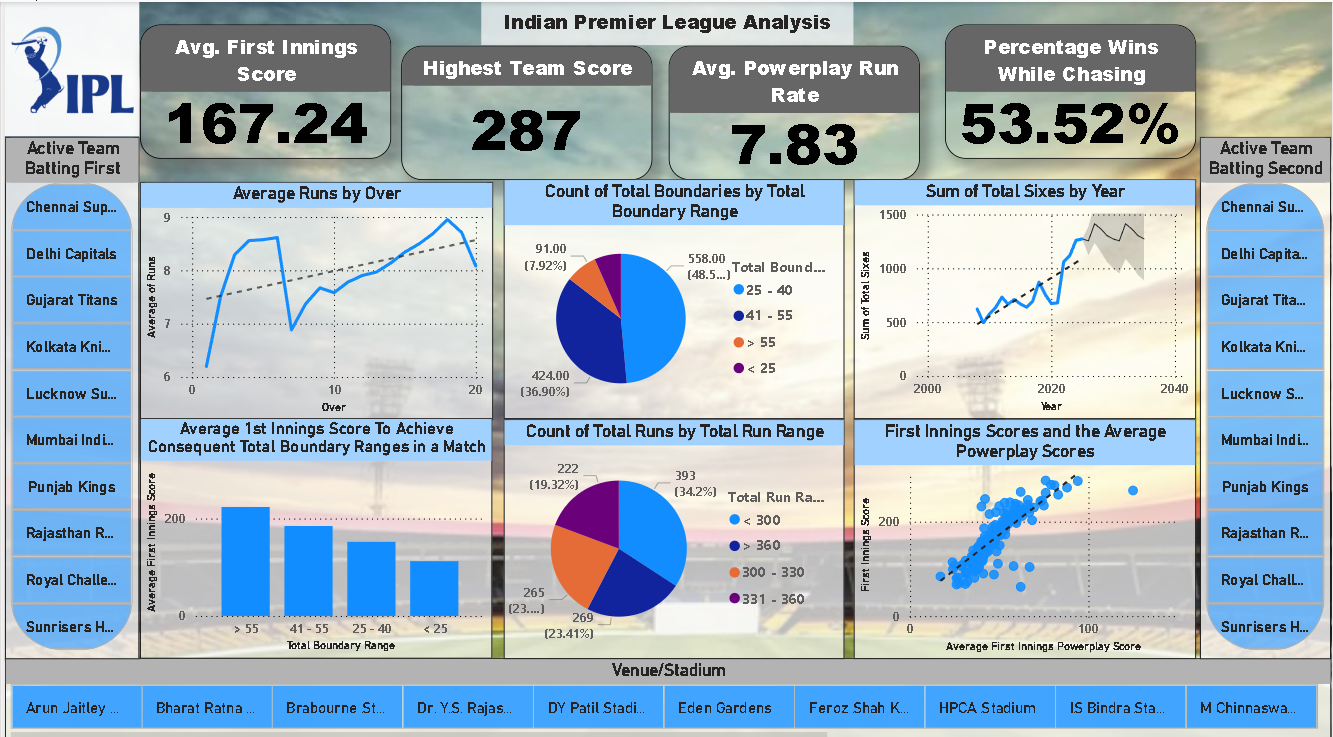

This screenshot's page, from the dashboard's own definition file:
{"tool":"powerbi","page":{"name":"IPL","canvas":[1280,720],"ordinal":3},"visuals":[{"type":"textbox","box":[460.2,0,359.2,41.8],"z":0},{"type":"advancedSlicerVisual","fields":{"Values":["IPL.Venue/Stadium"]},"box":[0,633.6,1279.7,87.2],"z":1000},{"type":"image","box":[0,0,129.8,129.8],"z":2000},{"type":"card","title":"Avg. First Innings Score","fields":{"Values":["IPL.Avg 1st Innings Score"]},"box":[129.8,21.6,242.4,129.8],"z":3000},{"type":"card","title":"Highest Team Score","fields":{"Values":["IPL.Highest Team Score"]},"box":[382.3,41.8,242.4,129.8],"z":4000},{"type":"card","title":"Avg. Powerplay Run Rate","fields":{"Values":["IPL.Avg Powerplay Run Rate"]},"box":[640.6,41.8,242.4,129.8],"z":5000},{"type":"card","title":"Percentage Wins While Chasing","fields":{"Values":["IPL.Chasing Win %"]},"box":[907.5,21.6,242.4,129.8],"z":6000},{"type":"pieChart","title":"Count of Total Boundaries by Total Boundary Range","fields":{"Category":["IPL.Total Boundary Range","IPL.Total Boundary Range Type 2"],"Y":["IPL.Total Boundary Count of Match"]},"box":[481.9,171.7,328.9,230.8],"z":7000},{"type":"lineChart","title":"Average Runs by Over","fields":{"Category":["IPL_Runs_By_Overs.Over"],"Y":["IPL_Runs_By_Overs.Runs"]},"box":[129.8,173.1,340.5,229.4],"z":8000},{"type":"advancedSlicerVisual","title":"Active Team Batting First","fields":{"Values":["IPL.team1"]},"box":[0,129.9,129.9,503.7],"z":9000},{"type":"advancedSlicerVisual","title":"Active Team Batting Second","fields":{"Values":["IPL.team2"]},"box":[1153.3,129.9,126.4,503.7],"z":10000},{"type":"lineChart","fields":{"Category":["IPL.Year"],"Y":["IPL.Total Sixes"]},"box":[819.5,171.7,330.4,230.8],"z":11000},{"type":"pieChart","fields":{"Category":["IPL.Total Run Range"],"Y":["IPL.Total Runs"]},"box":[481.9,402.5,328.9,230.8],"z":12000},{"type":"clusteredColumnChart","title":"Average 1st Innings Score To Achieve Consequent Total Boundary Ranges in a Match","fields":{"Category":["IPL.Total Boundary Range Type 1"],"Y":["IPL.innings_1_runs"]},"box":[130,402,340,232],"z":13000},{"type":"scatterChart","title":"First Innings Scores and the Average Powerplay Scores","fields":{"X":["IPL.innings_1_powerplay_runs"],"Y":["IPL.innings_1_runs"]},"box":[819,403,330,231],"z":14000}]}

Visuals, with their boxes in screenshot pixels (x1, y1, x2, y2), scaled from the page's 1280x720 canvas onto the 1333x737 screenshot:
textbox: 479/0/853/43
advancedSlicerVisual - IPL.Venue/Stadium: 0/649/1332/736
image: 0/0/135/133
"Avg. First Innings Score" card: 135/22/388/155
"Highest Team Score" card: 398/43/651/176
"Avg. Powerplay Run Rate" card: 667/43/920/176
"Percentage Wins While Chasing" card: 945/22/1198/155
"Count of Total Boundaries by Total Boundary Range" pieChart: 502/176/844/412
"Average Runs by Over" lineChart: 135/177/490/412
"Active Team Batting First" advancedSlicerVisual: 0/133/135/649
"Active Team Batting Second" advancedSlicerVisual: 1201/133/1332/649
lineChart - IPL.Year x IPL.Total Sixes: 853/176/1198/412
pieChart - IPL.Total Run Range x IPL.Total Runs: 502/412/844/648
"Average 1st Innings Score To Achieve Consequent Total Boundary Ranges in a Match" clusteredColumnChart: 135/411/489/649
"First Innings Scores and the Average Powerplay Scores" scatterChart: 853/413/1197/649
